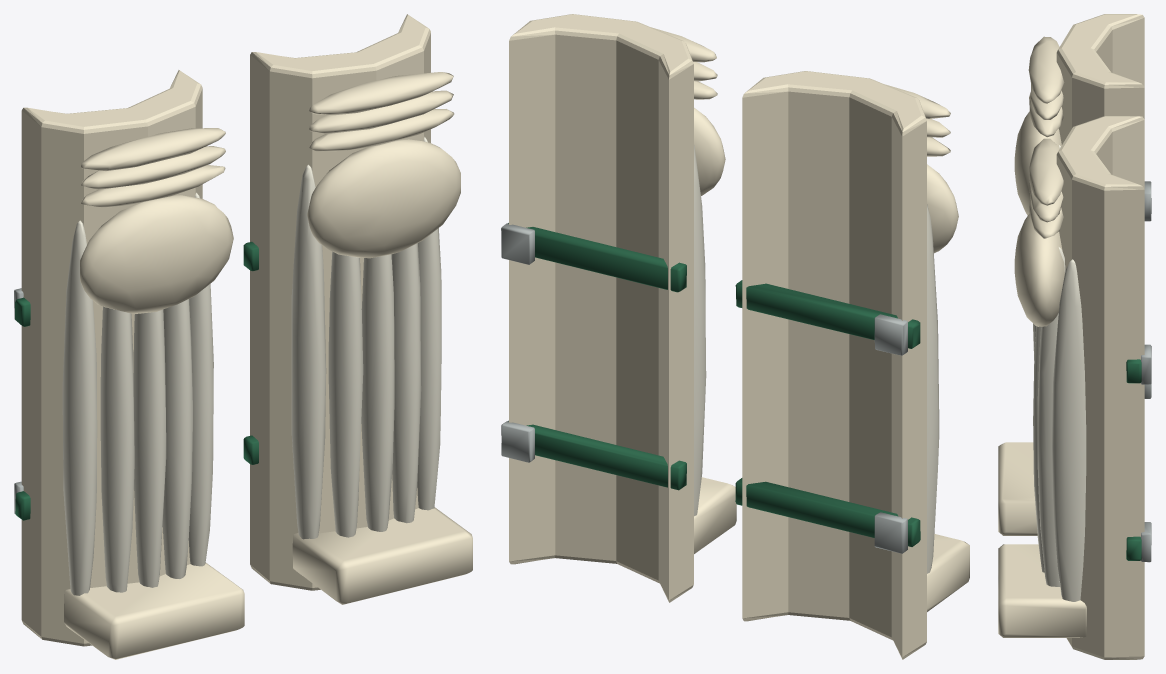
Rendered from pads.glb.
3 renders of one model, left to right at view 1: azimuth 30°, elevation 25°; view 2: azimuth 150°, elevation 25°; view 3: azimuth 270°, elevation 25°, orthographic. The views are drawn at different scales.
Visible parts, largest first — view 1: batting-pad-pair; view 2: batting-pad-pair; view 3: batting-pad-pair.
Boxes of the visible parts, x1,y1,x2,y2 form: batting-pad-pair: (14,14,472,659); batting-pad-pair: (501,14,969,659); batting-pad-pair: (998,14,1151,659).
Bounding box in the file's own units: 0.5296 × 0.652 × 0.1909.
